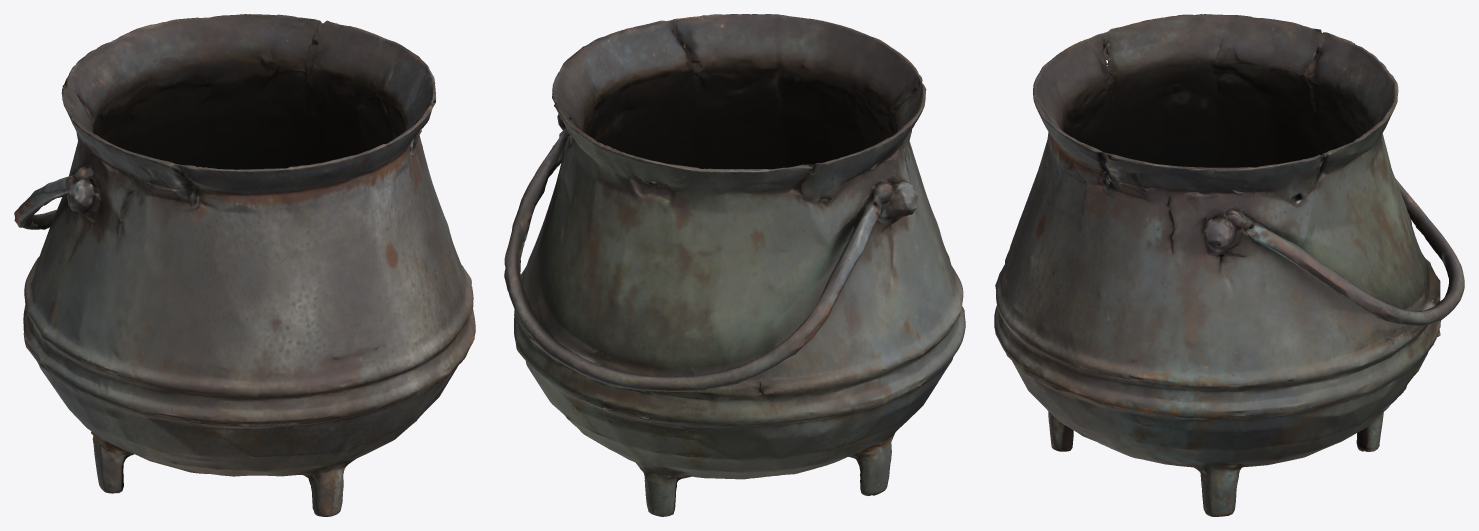
Rendered from IronCauldron.glb.
3 renders of one model, left to right at view 1: azimuth 30°, elevation 25°; view 2: azimuth 150°, elevation 25°; view 3: azimuth 270°, elevation 25°, orthographic. The views are drawn at different scales.
Size of the model in its own units: 1.71 by 1.53 by 1.83.
Materials: 1 (1 with a texture image).
